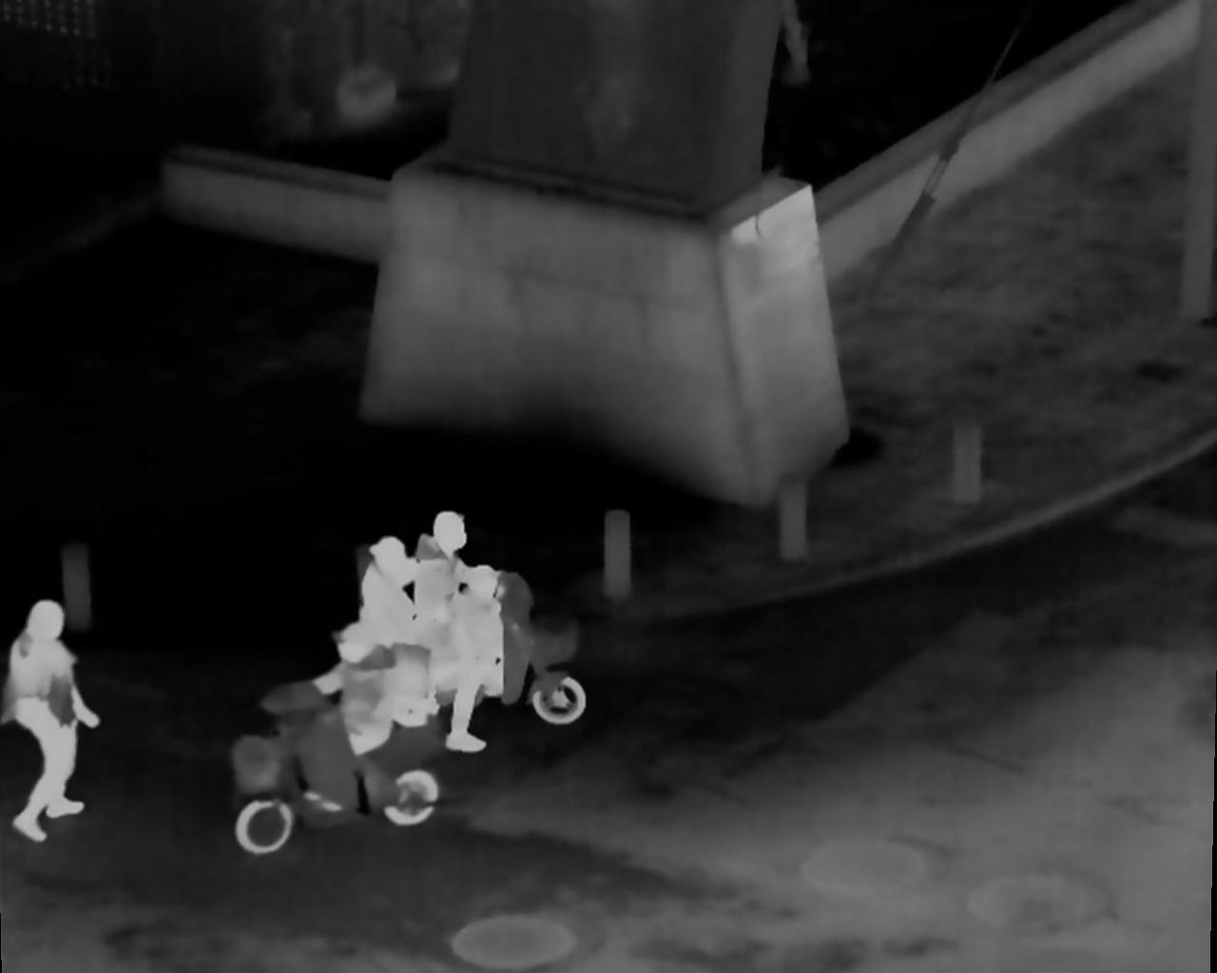person: (414, 507, 512, 731), (8, 599, 88, 839), (313, 622, 395, 803), (369, 530, 414, 681)
